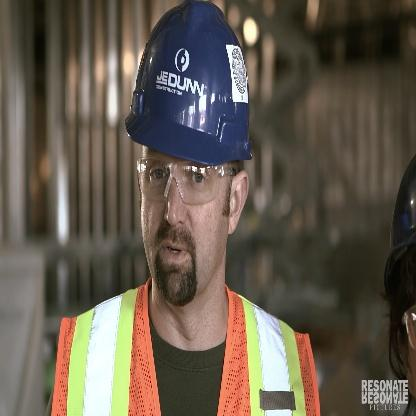helmet: (127, 0, 254, 303)
